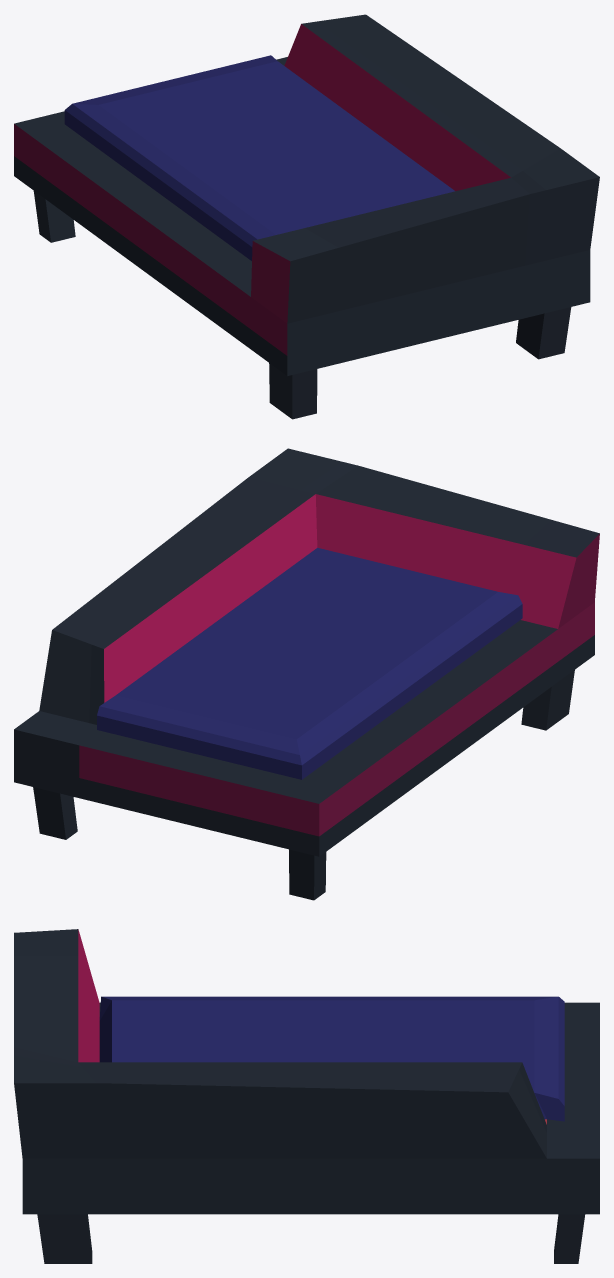
The model's file is Fader_CoolArmchair.fbx.
3 views of the same model, one above another, from view 1: azimuth 30°, elevation 25°; view 2: azimuth 150°, elevation 25°; view 3: azimuth 270°, elevation 25° (orthographic). The views are drawn at different scales.
Parts seen in each view (by area): view 1: Cube.055; view 2: Cube.055; view 3: Cube.055.
Part boxes in pixels (x1,y1,x2,y2): Cube.055: (14, 14, 599, 419); Cube.055: (14, 448, 599, 900); Cube.055: (14, 929, 599, 1263).
Bounding box in the file's own units: 108 × 59.34 × 165.
